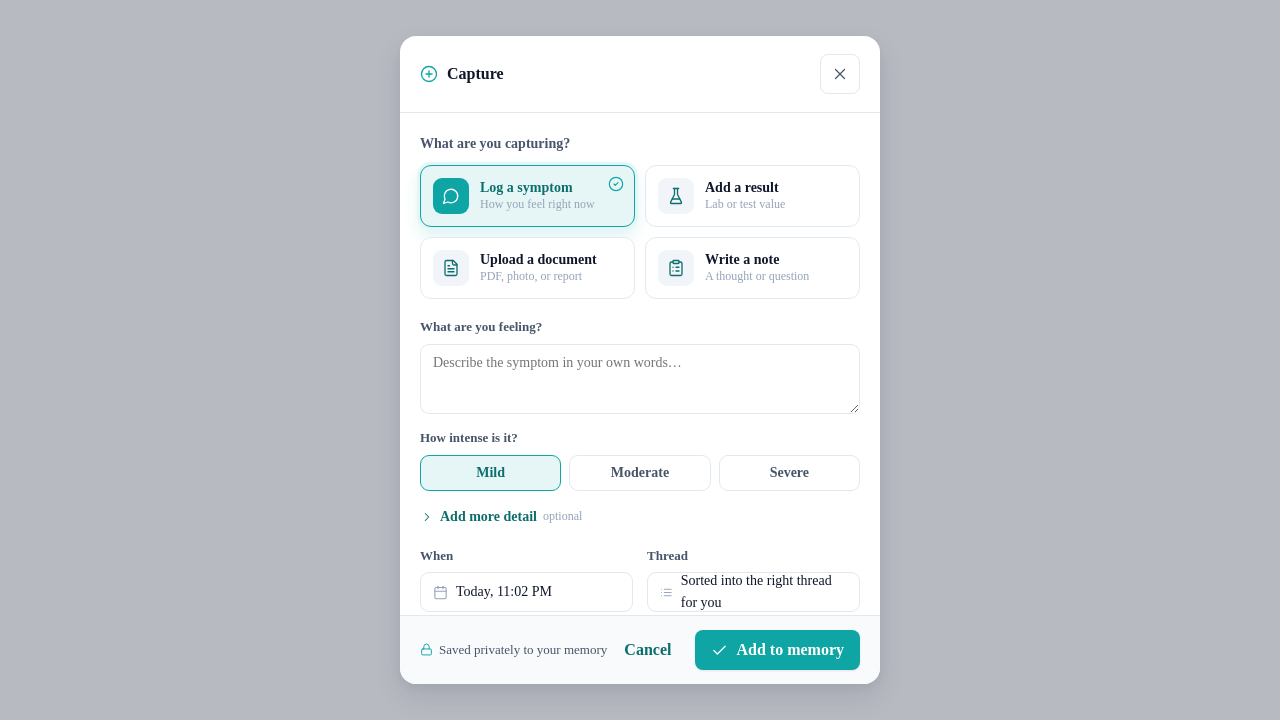
Test: CaptureModal › reuses the same Idempotency-Key when retried after a failure
Type "dizzy" into the text box with placeholder "Describe the symptom in your own words…" at x=640, y=379, box 420,344 -> 860,414
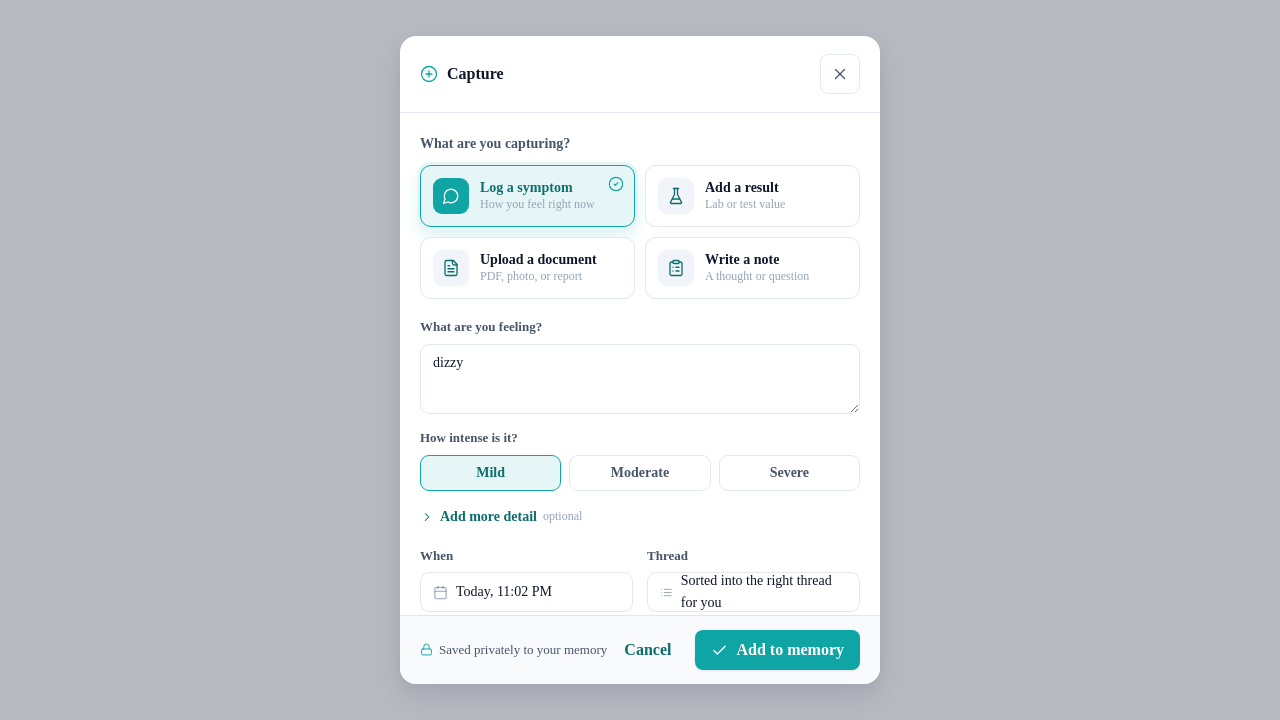
Click the button "Add to memory" at x=778, y=650, box 696,630 -> 860,670
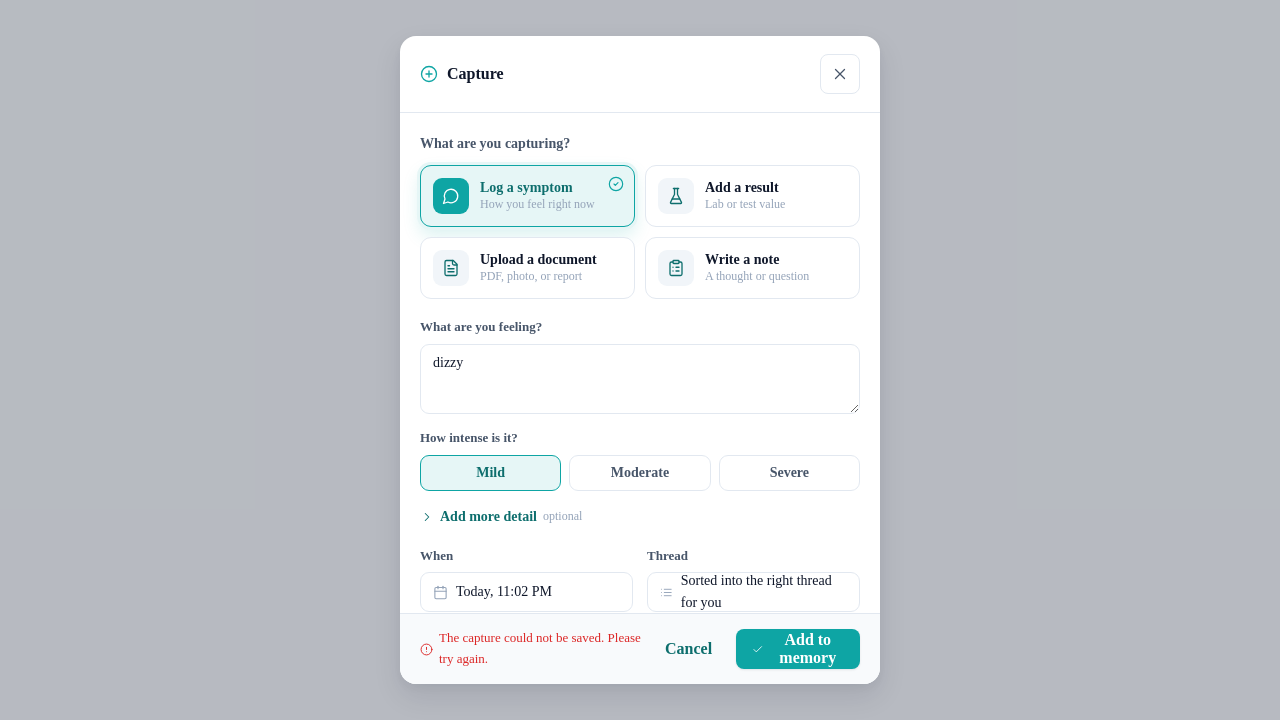
Check: the text "The capture could not be saved. Please try again." is shown, box 420,628 -> 649,670
Click the button "Add to memory" at x=798, y=649, box 736,629 -> 860,669
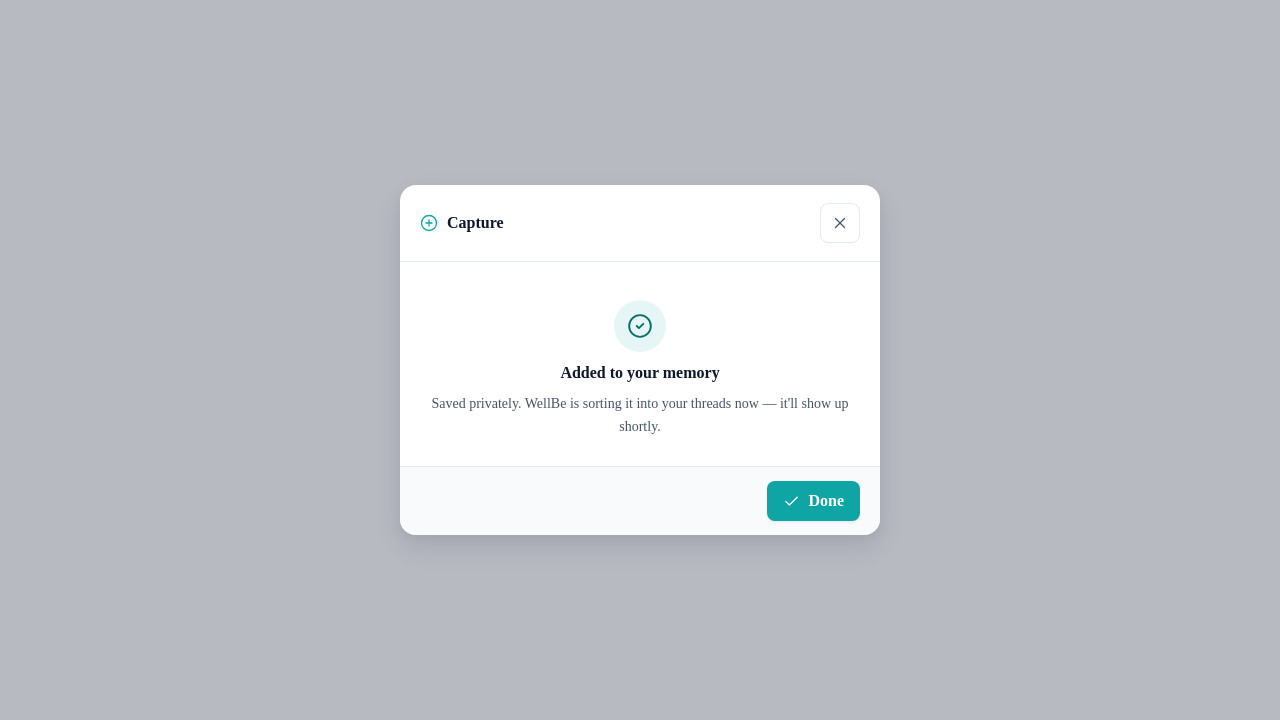
Check: the message is shown, box 420,282 -> 860,446
